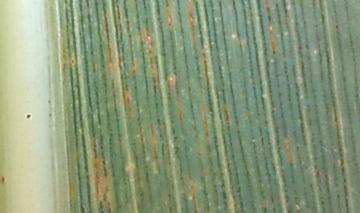tarspot: (23, 113, 33, 119), (1, 174, 7, 184)
